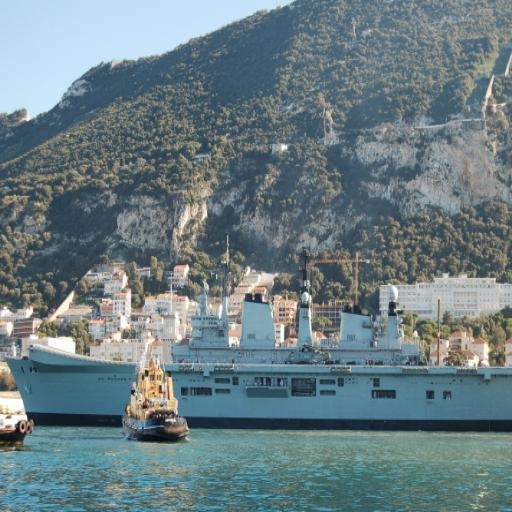Portanaves: (5, 240, 512, 432)
